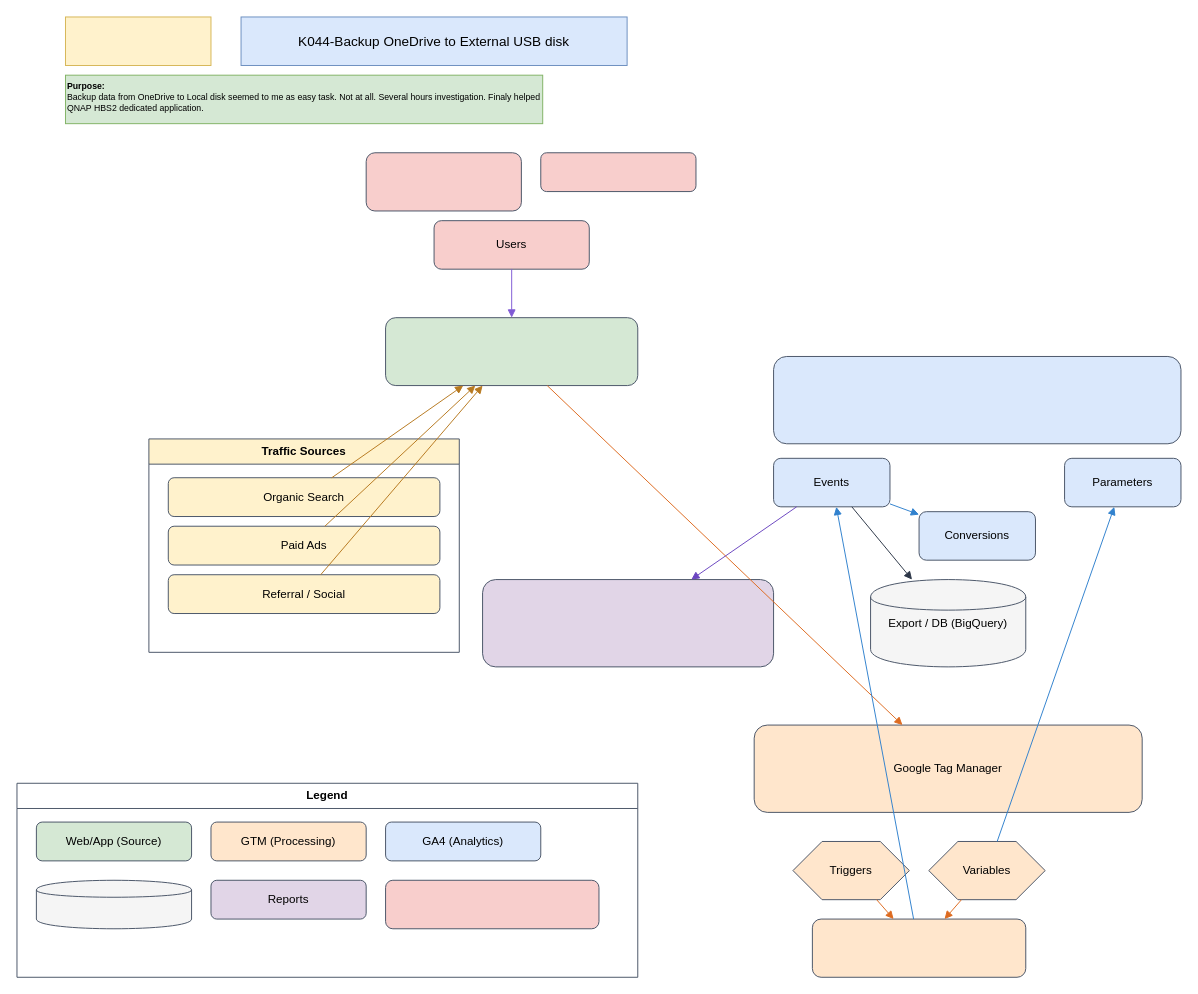
Some shapes in this 1198 by 994 pixel diagram are drawn without their labels. The shapes that lost their labels are listed below. From the top down, each one's centre as x and y in pixels, then its label:
the point at 138,40: Author: Roman Kazička Created: 12.08.2025, 20:00 Modified:
the point at 443,181: Devices (mobile/desktop/tablet)
the point at 618,172: Location
the point at 511,351: Website / App
the point at 977,400: Google Analytics 4
the point at 628,623: Reports / Explorations / Looker Studio
the point at 113,904: DB/Export
the point at 492,904: Users/Devices/Location
the point at 918,947: Tags (GA4 Config, GA4 Event, Ads, Custom)
